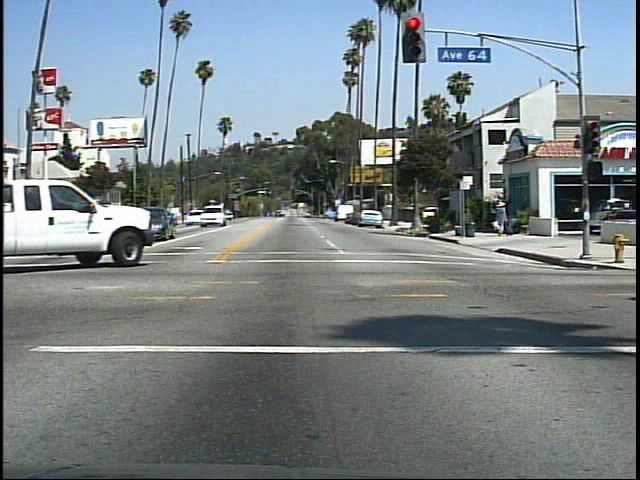person: (493, 196, 514, 239)
